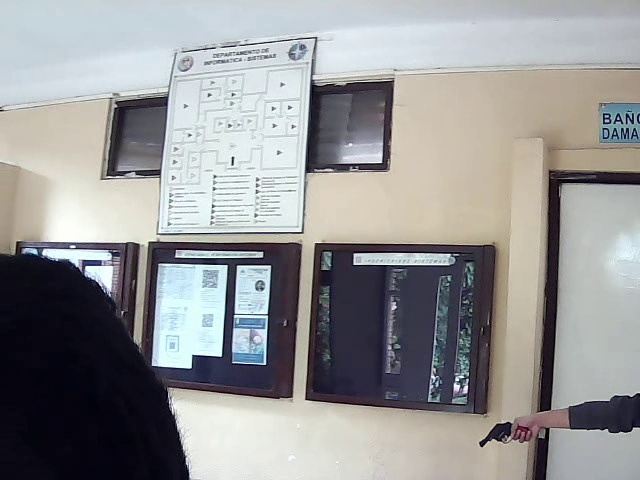pistola: (476, 415, 523, 454)
